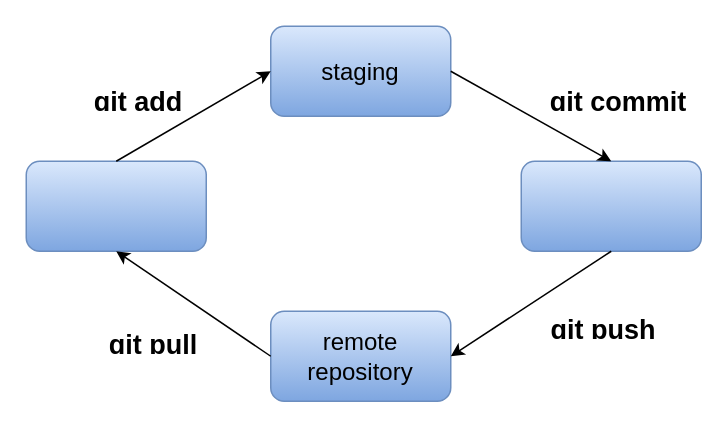
The diagram is 728 pixels wide and 428 high, and some of its shapes have lost their labels. The shapes that lost their labels are listed below. From the top down, each one's centre as x and y in pixels, then its label:
pixel 115 205: Make changes locally
pixel 610 205: local repository
